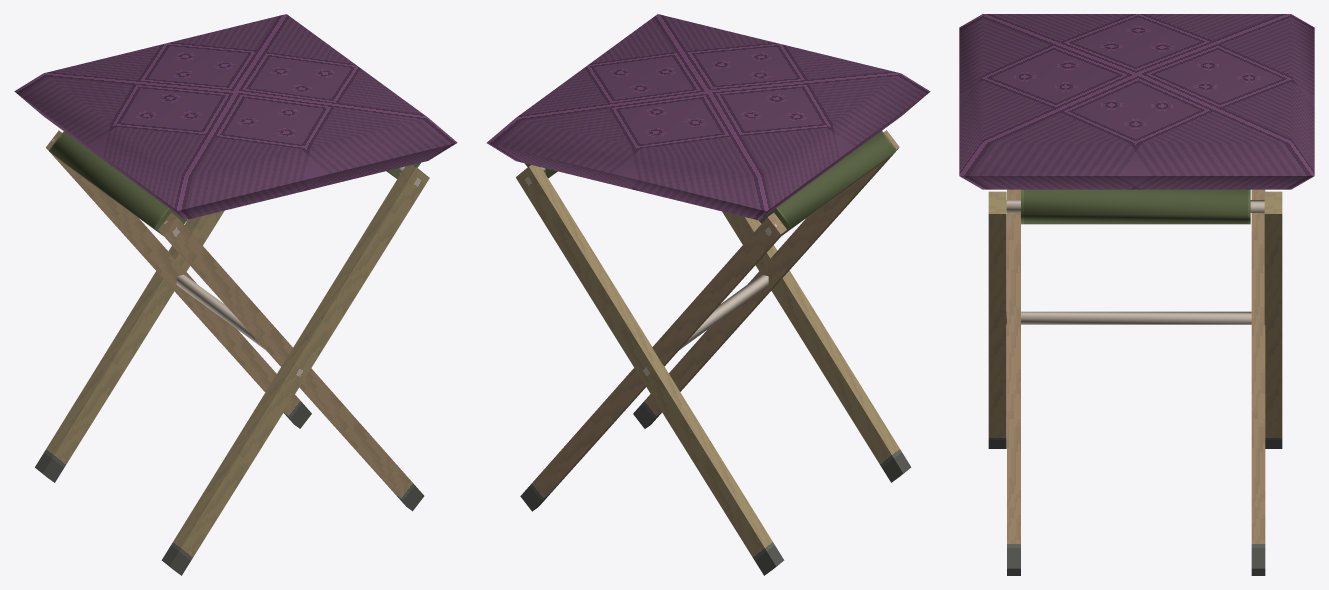
The model's file is 0503_Cushioned_Chair.glb.
3 views of the same model, side by side, from view 1: azimuth 30°, elevation 25°; view 2: azimuth 150°, elevation 25°; view 3: azimuth 270°, elevation 25° (orthographic). The views are drawn at different scales.
Visible parts, largest first — view 1: part_0; view 2: part_0; view 3: part_0.
Part boxes in pixels (bbox=[...]): part_0: bbox=[14, 14, 457, 575]; part_0: bbox=[487, 14, 930, 575]; part_0: bbox=[959, 14, 1314, 575].
Size of the model in its own units: 0.3889 by 0.5367 by 0.3932.
Materials: 1 (1 with a texture image).
